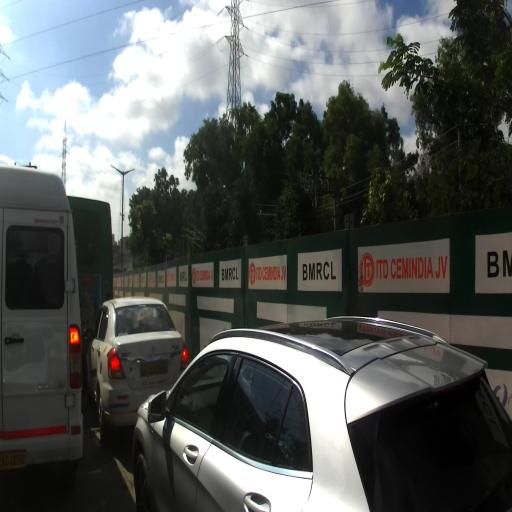street_light_0: (111, 165, 124, 177), (122, 169, 136, 177)
